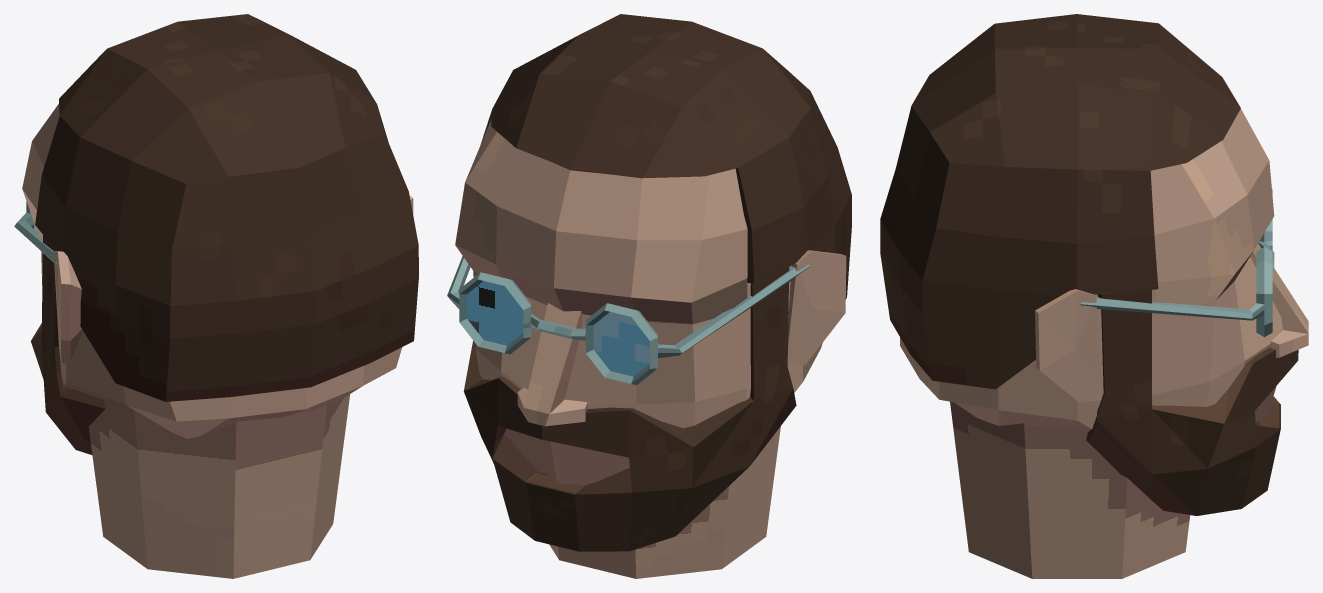
File: myHead.gltf
The picture shows the model from 3 angles, left to right: view 1: azimuth 30°, elevation 25°; view 2: azimuth 150°, elevation 25°; view 3: azimuth 270°, elevation 25°; orthographic projection.
Visible parts, largest first — view 1: hair, pescoco, head-base, barba, ear-r, glas; view 2: head-base, hair, barba, pescoco, glas, ear-r, neck, glass-r, glass-l; view 3: hair, head-base, pescoco, barba, ear-l, glas, neck.
Part boxes in pixels (left/top/right/bottom): hair: left=35, top=14, right=418, bottom=401; pescoco: left=88, top=394, right=350, bottom=578; head-base: left=22, top=104, right=402, bottom=438; barba: left=31, top=235, right=105, bottom=454; ear-r: left=53, top=250, right=83, bottom=363; glas: left=14, top=201, right=57, bottom=264; head-base: left=455, top=119, right=822, bottom=485; hair: left=481, top=14, right=851, bottom=299; barba: left=463, top=267, right=796, bottom=551; pescoco: left=549, top=426, right=780, bottom=578; glas: left=447, top=256, right=809, bottom=385; ear-r: left=787, top=250, right=846, bottom=364; neck: left=517, top=303, right=587, bottom=426; glass-r: left=593, top=312, right=649, bottom=376; glass-l: left=467, top=281, right=523, bottom=345; hair: left=880, top=14, right=1240, bottom=389; head-base: left=900, top=108, right=1282, bottom=432; pescoco: left=950, top=401, right=1190, bottom=578; barba: left=1086, top=290, right=1298, bottom=515; ear-l: left=1035, top=289, right=1101, bottom=403; glas: left=1080, top=189, right=1274, bottom=336; neck: left=1250, top=243, right=1308, bottom=357.
Size of the model in its own units: 1.3 by 1.7 by 1.36.
1 material, 1 textured.
